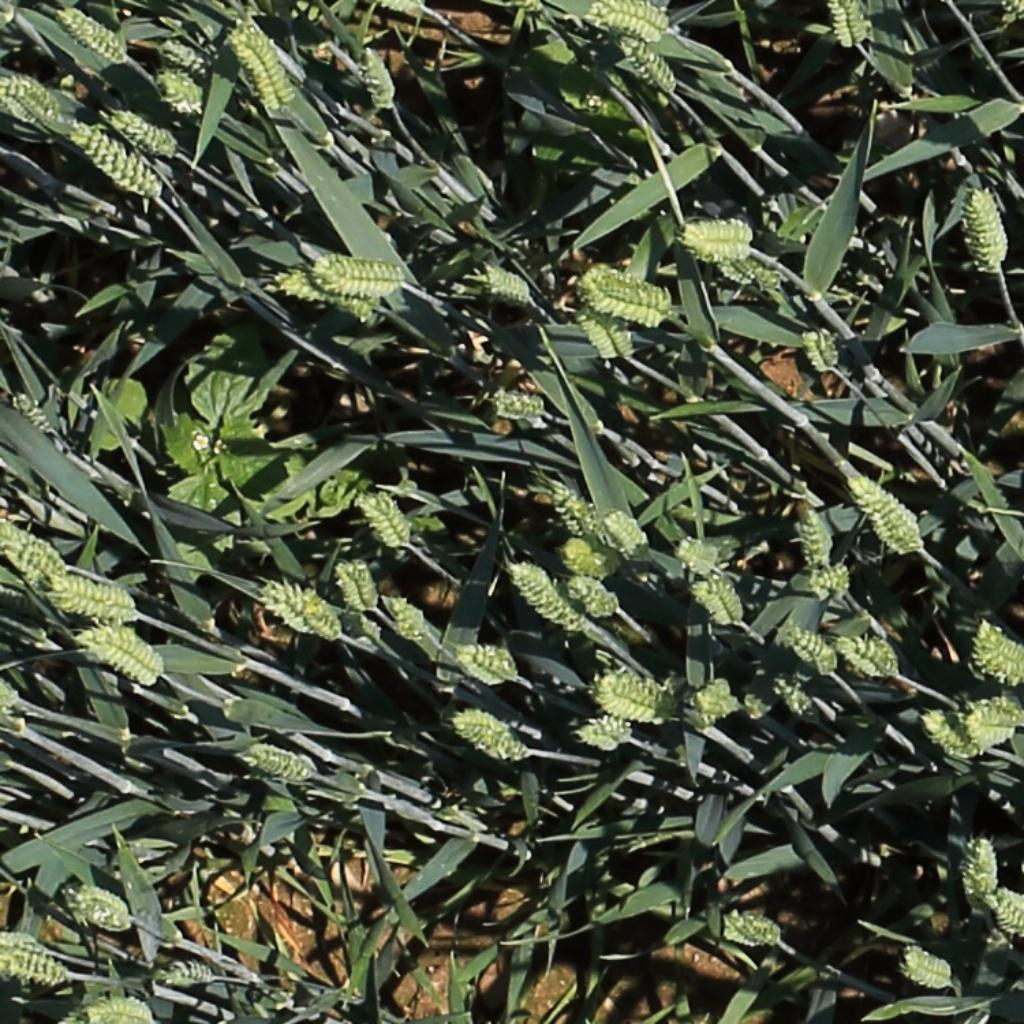0-0: (63, 615, 185, 699), (268, 259, 381, 334), (850, 473, 935, 567), (66, 117, 159, 197), (308, 239, 401, 311), (509, 561, 589, 634), (229, 23, 289, 116), (585, 654, 667, 722), (922, 711, 1020, 764), (958, 170, 1006, 274), (615, 31, 682, 98), (449, 705, 528, 761), (572, 705, 642, 768), (451, 637, 524, 694), (262, 587, 342, 638), (546, 476, 604, 546), (58, 6, 126, 64), (718, 902, 786, 959), (954, 687, 1024, 742), (725, 668, 775, 744), (65, 884, 143, 932), (572, 0, 667, 39), (0, 928, 66, 983), (955, 832, 999, 914), (574, 301, 629, 364), (359, 490, 413, 554), (356, 38, 400, 116), (584, 270, 673, 308), (581, 283, 667, 322), (0, 522, 64, 574), (522, 963, 578, 1021), (693, 572, 746, 632), (109, 106, 178, 152), (785, 622, 841, 678), (973, 623, 1024, 684), (977, 874, 1024, 940), (49, 577, 135, 613), (771, 675, 827, 730), (704, 250, 782, 288), (800, 496, 835, 578), (152, 954, 222, 994), (836, 637, 902, 679), (331, 555, 374, 619), (382, 589, 430, 645), (8, 387, 60, 438), (245, 746, 316, 783), (602, 507, 652, 558), (157, 65, 207, 116), (0, 75, 60, 116), (763, 357, 817, 402), (802, 320, 843, 379), (567, 574, 621, 617), (562, 540, 619, 580), (903, 948, 957, 988), (349, 554, 383, 617), (679, 229, 752, 258), (483, 262, 533, 303), (492, 393, 553, 426), (0, 79, 46, 122), (161, 39, 210, 79), (831, 0, 866, 53), (686, 214, 760, 238), (359, 0, 425, 26), (677, 540, 722, 576), (811, 563, 853, 596), (86, 1003, 152, 1022), (0, 669, 28, 712)
